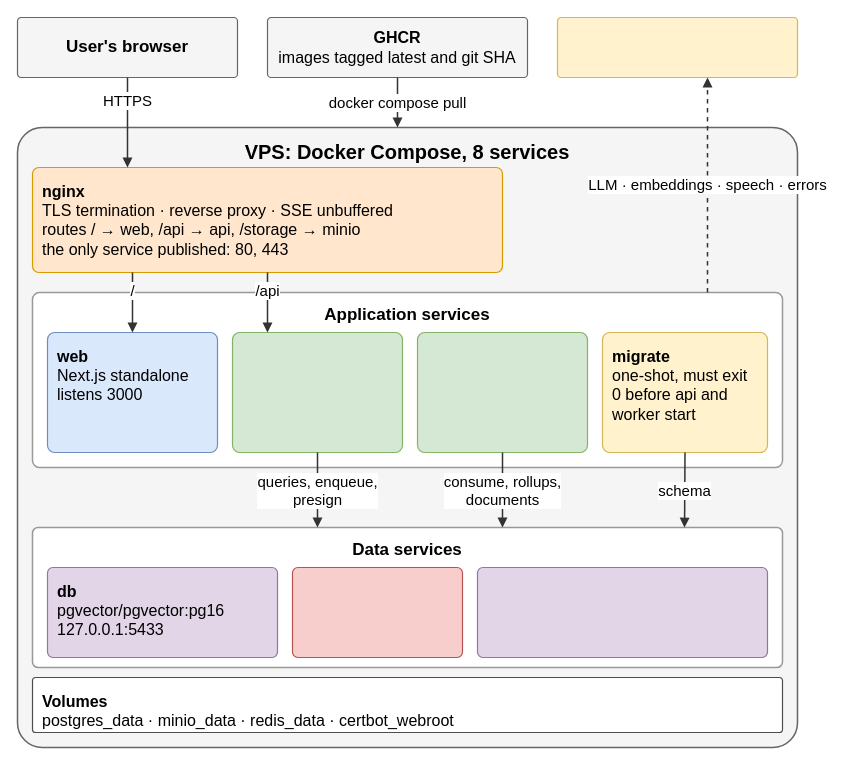
The diagram is 844 pixels wide and 766 high, and some of its shapes have lost their labels. The centre of each missing label's shape, as x and y in pixels:
"api NestJS listens 3000, publishes nothing" belongs at [317,392].
"External APIs Groq · Gemini · Sentry" belongs at [677,47].
"minio public images, served via /storage private documents, only via /api" belongs at [622,612].
"redis 7-alpine 127.0.0.1:6379" belongs at [377,612].
"worker same image, second entrypoint, 6 queues" belongs at [502,392].
